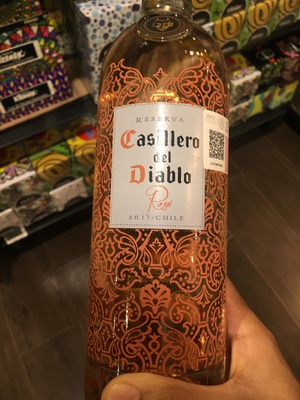casillero del diablo rose: (76, 17, 252, 384)
